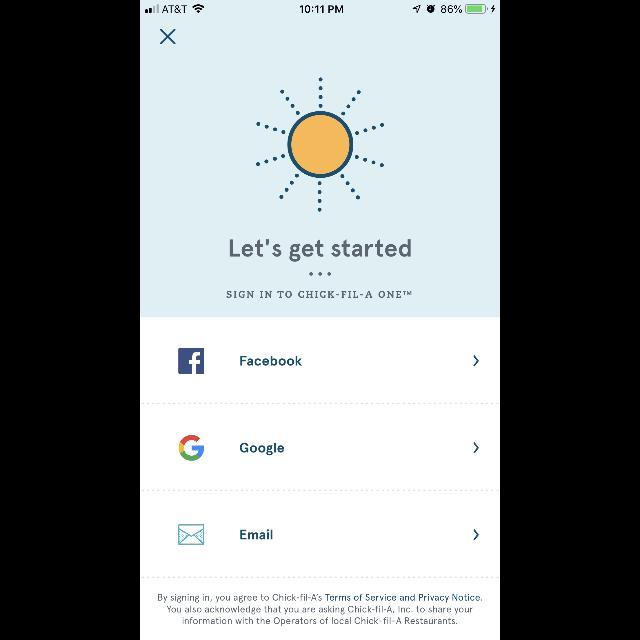icon: (179, 348, 205, 374), (180, 435, 204, 461), (178, 524, 204, 544), (160, 29, 176, 45), (473, 356, 479, 366), (474, 442, 478, 453), (474, 530, 478, 540)
image: (256, 77, 384, 211)
pageindicator: (309, 272, 331, 276)
text: (158, 594, 482, 626), (230, 240, 410, 262), (226, 290, 412, 298), (240, 356, 302, 366), (240, 442, 284, 456), (241, 528, 273, 540)
uppertaskbar: (140, 0, 500, 14)
